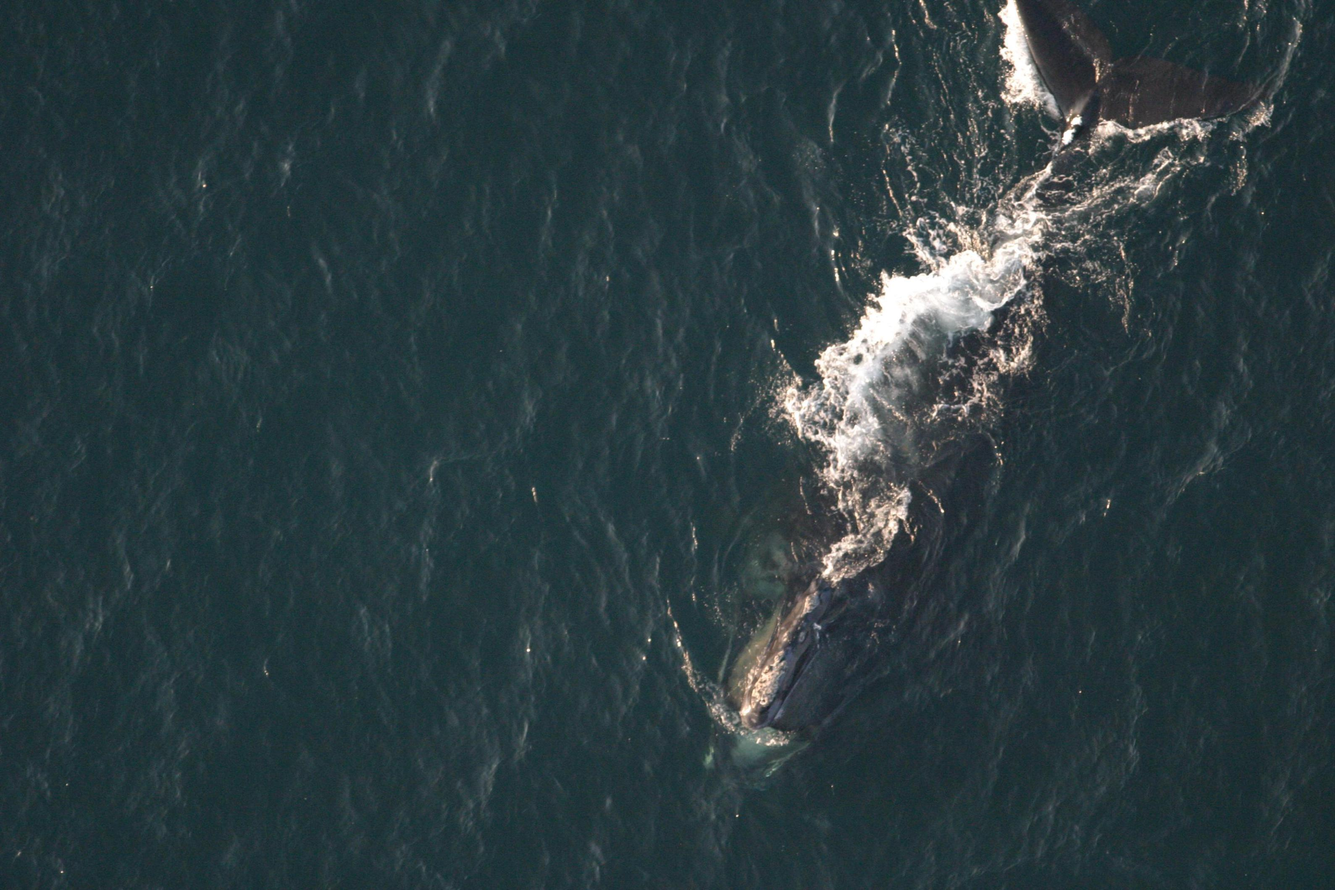whale: (695, 0, 1275, 814)
